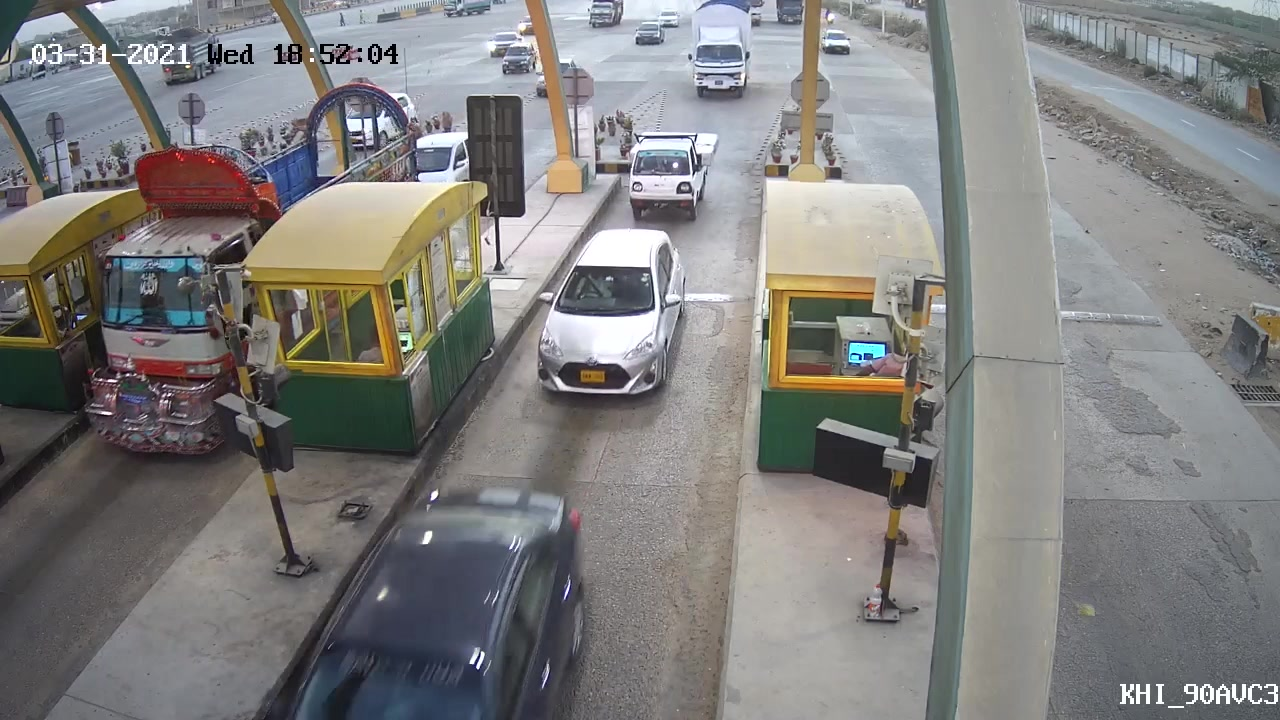F1: (523, 226, 687, 413)
F2: (623, 122, 725, 221)
